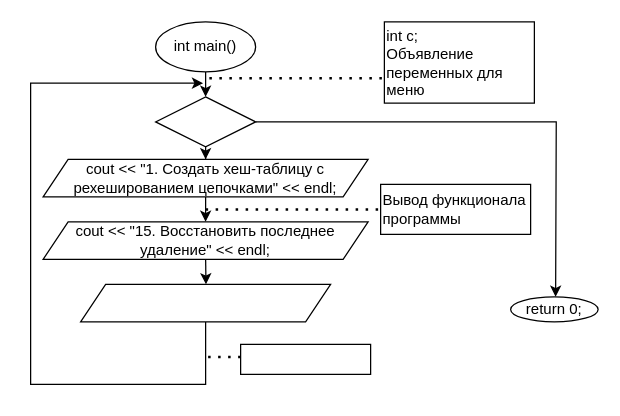
The diagram is 620 pixels wide and 416 high, and some of its shapes have lost their labels. Each missing label, with the centre of its shape:
cout << "Введите c"; cin >> c;: point 205,302
while (true): point 205,121
Меню программы: point 305,358
